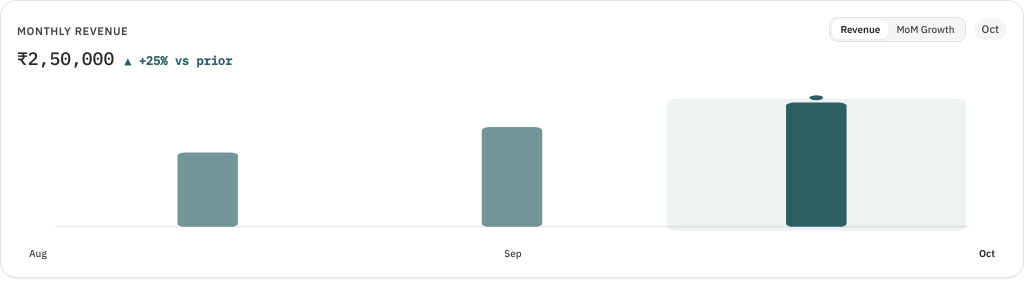
Scenario: MonthlyRevenueChart › toggles between Revenue and MoM Growth modes
Click the button "MoM Growth" at (926, 30), box [888, 20, 963, 39]
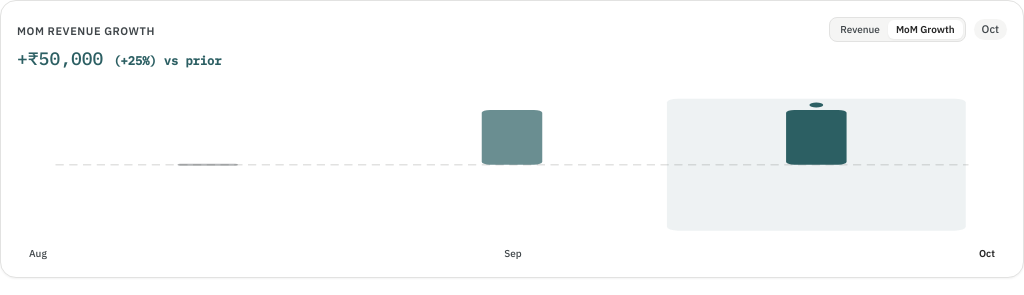
Expected: the text "MoM Revenue Growth" is shown, [17, 24, 155, 38]
Expected: the text "+₹50,000" is shown, [17, 45, 103, 73]
